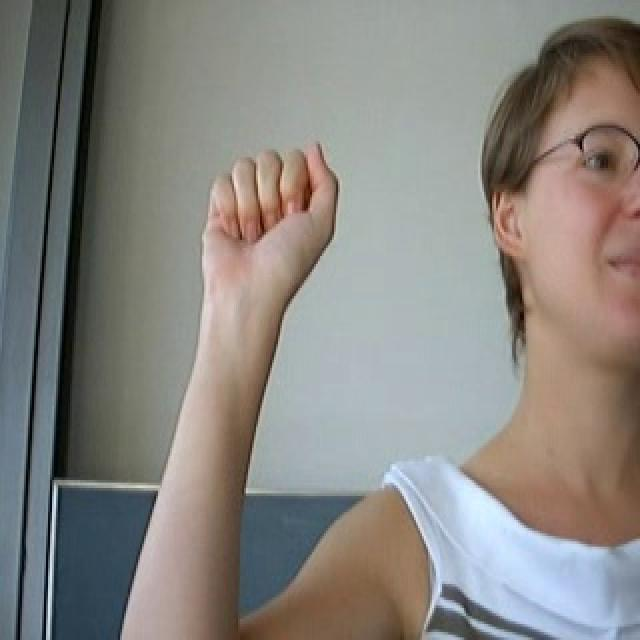A: (201, 131, 350, 345)
